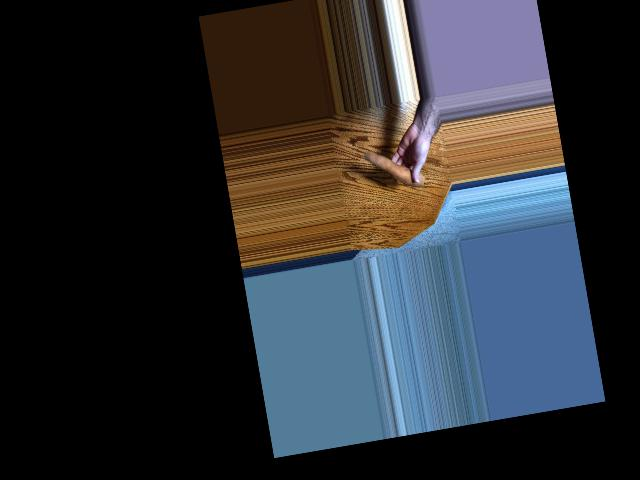sweet_potato: (363, 141, 424, 192)
